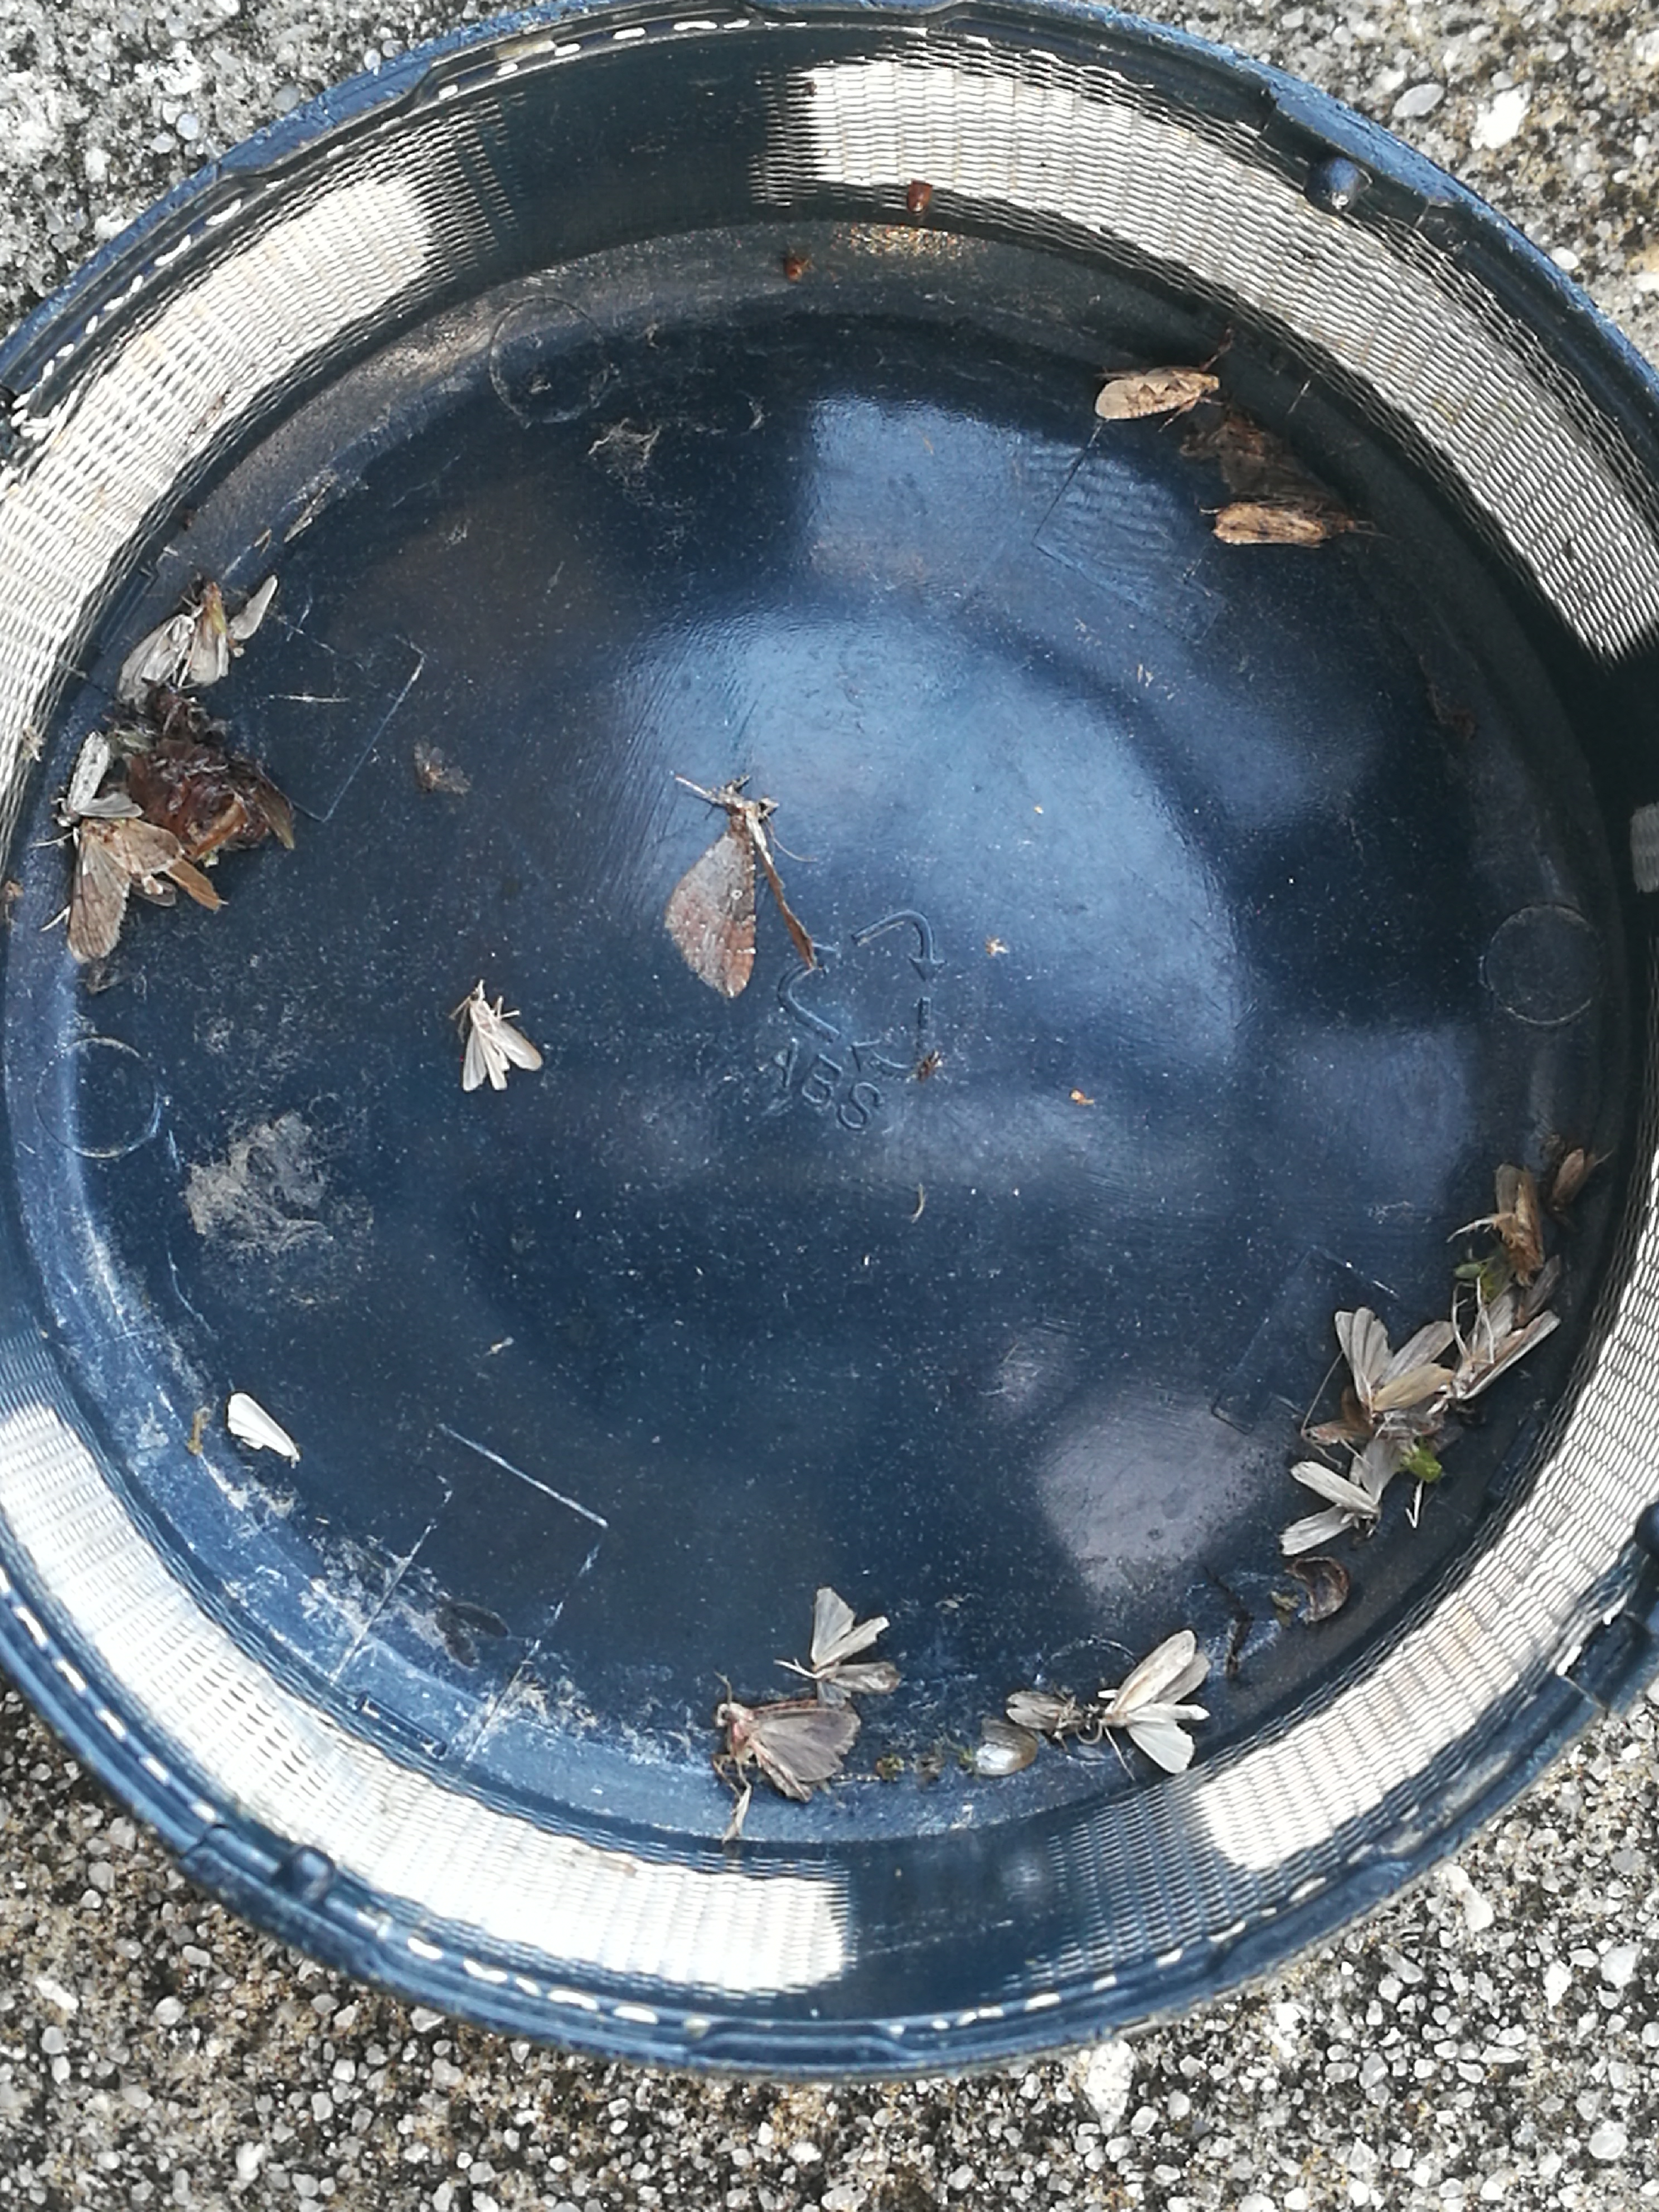beetle: (129, 740, 268, 848)
mosquito: (1006, 1689, 1094, 1728), (1546, 1148, 1584, 1216), (1300, 1423, 1371, 1446)
moth: (664, 796, 812, 998), (1213, 427, 1358, 547), (66, 819, 181, 961), (1094, 1630, 1209, 1773), (716, 1698, 861, 1801), (1335, 1306, 1455, 1425), (1283, 1437, 1398, 1555), (1453, 1291, 1560, 1399), (810, 1588, 899, 1700), (462, 979, 542, 1092), (59, 732, 141, 826), (120, 608, 200, 702), (1094, 364, 1220, 420), (1493, 1165, 1542, 1271), (186, 582, 228, 686)
